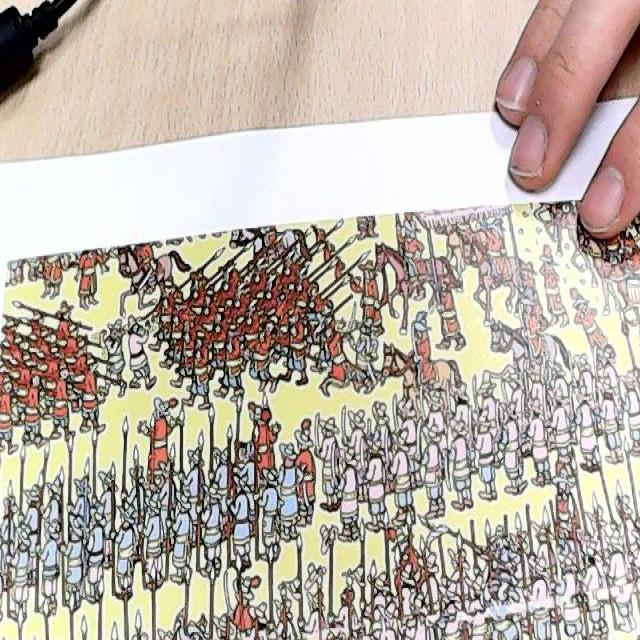waldo: (234, 439, 248, 461)
